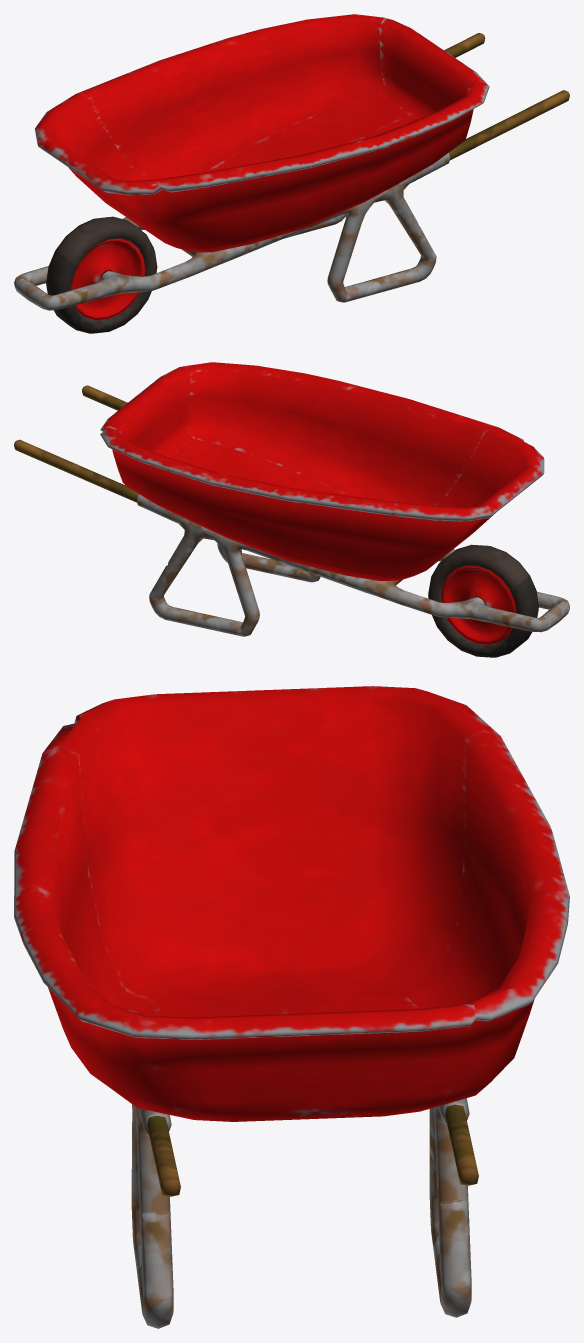
Rendered from wheel barrow.glb.
3 renders of one model, top to bottom at view 1: azimuth 30°, elevation 25°; view 2: azimuth 150°, elevation 25°; view 3: azimuth 270°, elevation 25°, orthographic. The views are drawn at different scales.
Visible parts, largest first — view 1: Bucket, Frame, tire, hub, handles; view 2: Bucket, Frame, tire, hub, handles; view 3: Bucket, Frame, handles.
Boxes of the visible parts, bbox=[...] form: Bucket: bbox=[35, 14, 489, 252]; Frame: bbox=[14, 152, 449, 310]; tire: bbox=[46, 216, 157, 333]; hub: bbox=[71, 238, 145, 320]; handles: bbox=[444, 33, 569, 160]; Bucket: bbox=[100, 362, 544, 581]; Frame: bbox=[137, 494, 569, 636]; tire: bbox=[428, 544, 538, 657]; hub: bbox=[441, 565, 516, 644]; handles: bbox=[14, 385, 138, 502]; Bucket: bbox=[14, 686, 569, 1121]; Frame: bbox=[131, 1098, 471, 1328]; handles: bbox=[147, 1104, 478, 1196].
Bounding box in the file's own units: 1.98 × 0.6992 × 0.9554.
1 material, 1 textured.
